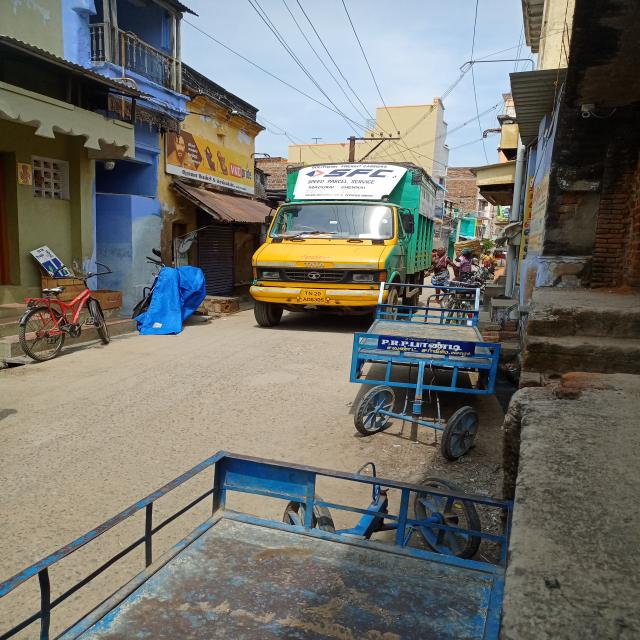truck: (252, 157, 438, 316)
